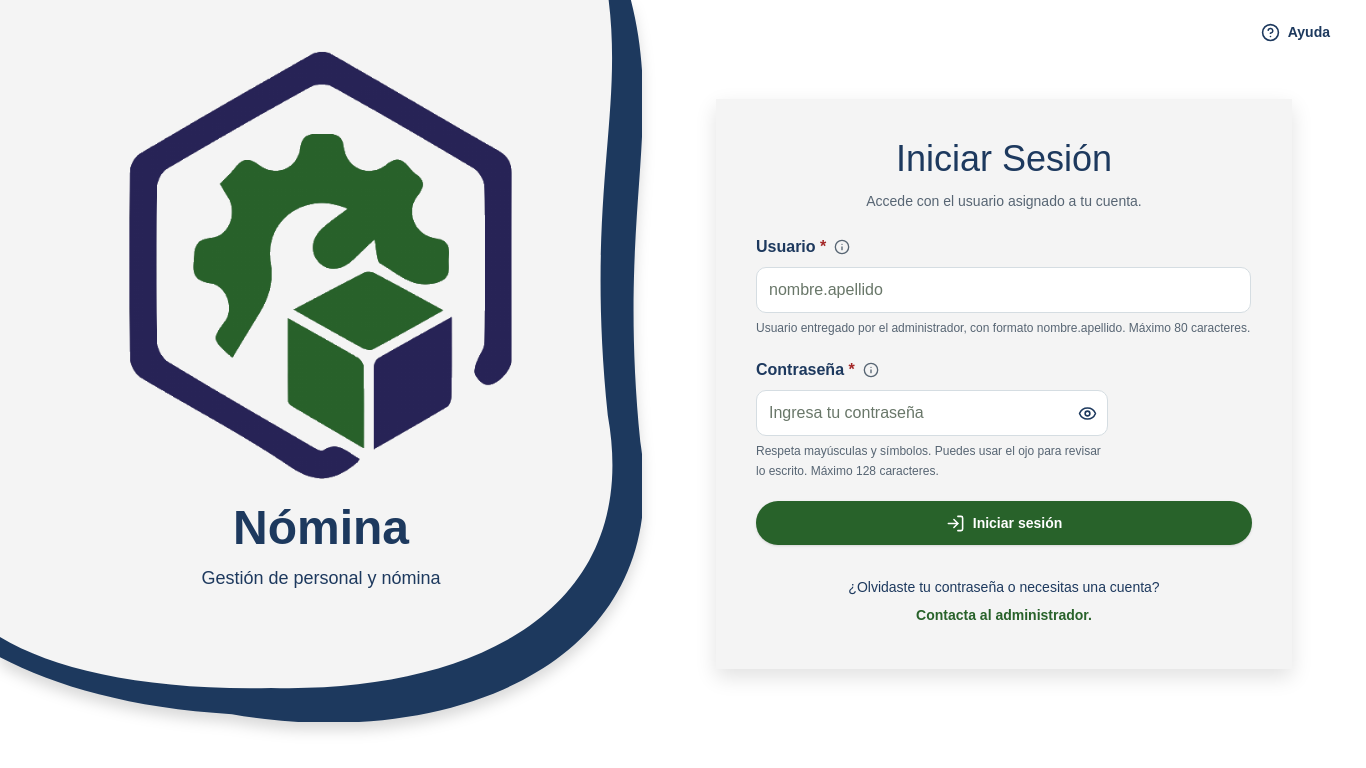
autenticación y guards › muestra errores de credenciales sin navegar ni repetir el envío
expect the heading "Iniciar Sesión" is shown: met, box [896,138,1112,179]
Type "ana.perez" into the field labelled "Usuario *". click: coordinates (1003, 290)
box: [757,268,1250,312]
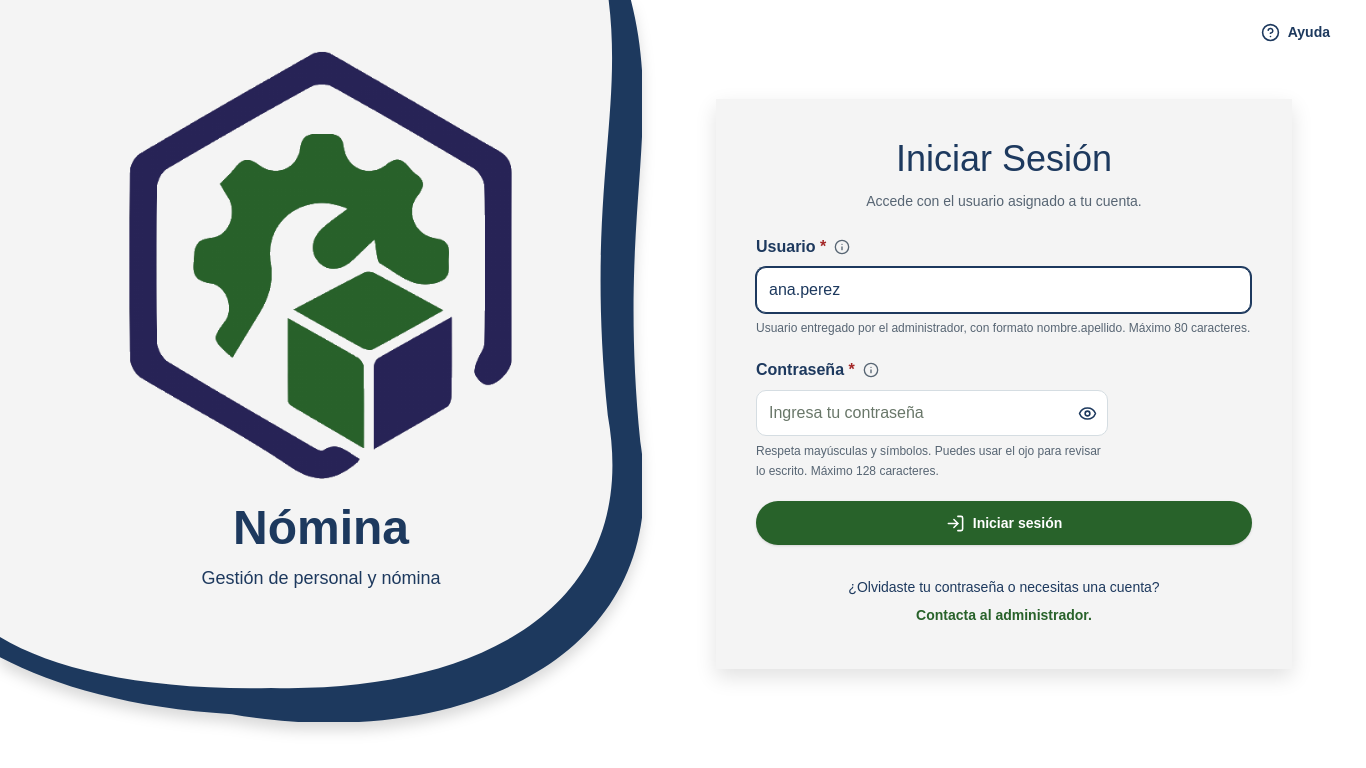
Type "Temporal!123" into the password field labelled "Contraseña *". click: coordinates (912, 413)
box: [757,391,1067,435]
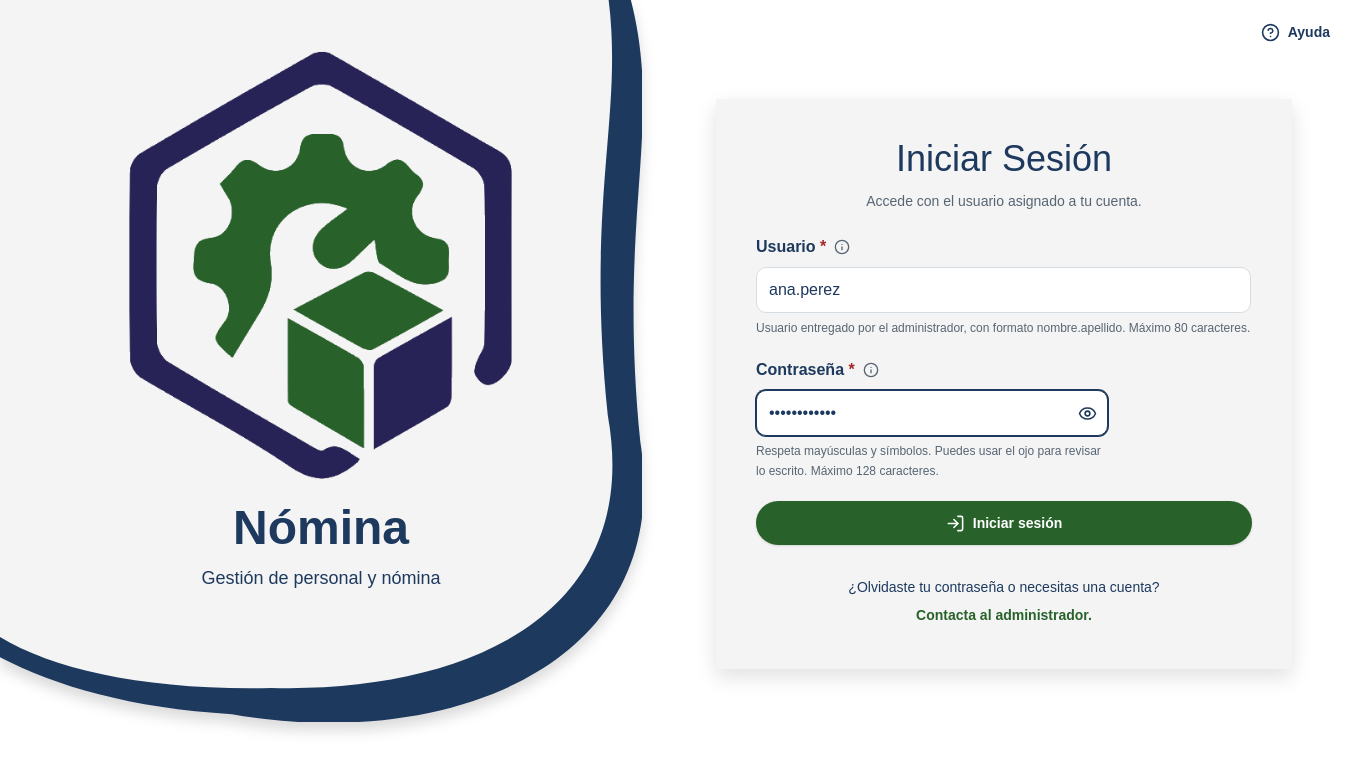
Click the button "Iniciar sesión". click: coordinates (1004, 523)
box: [756,501,1252,545]
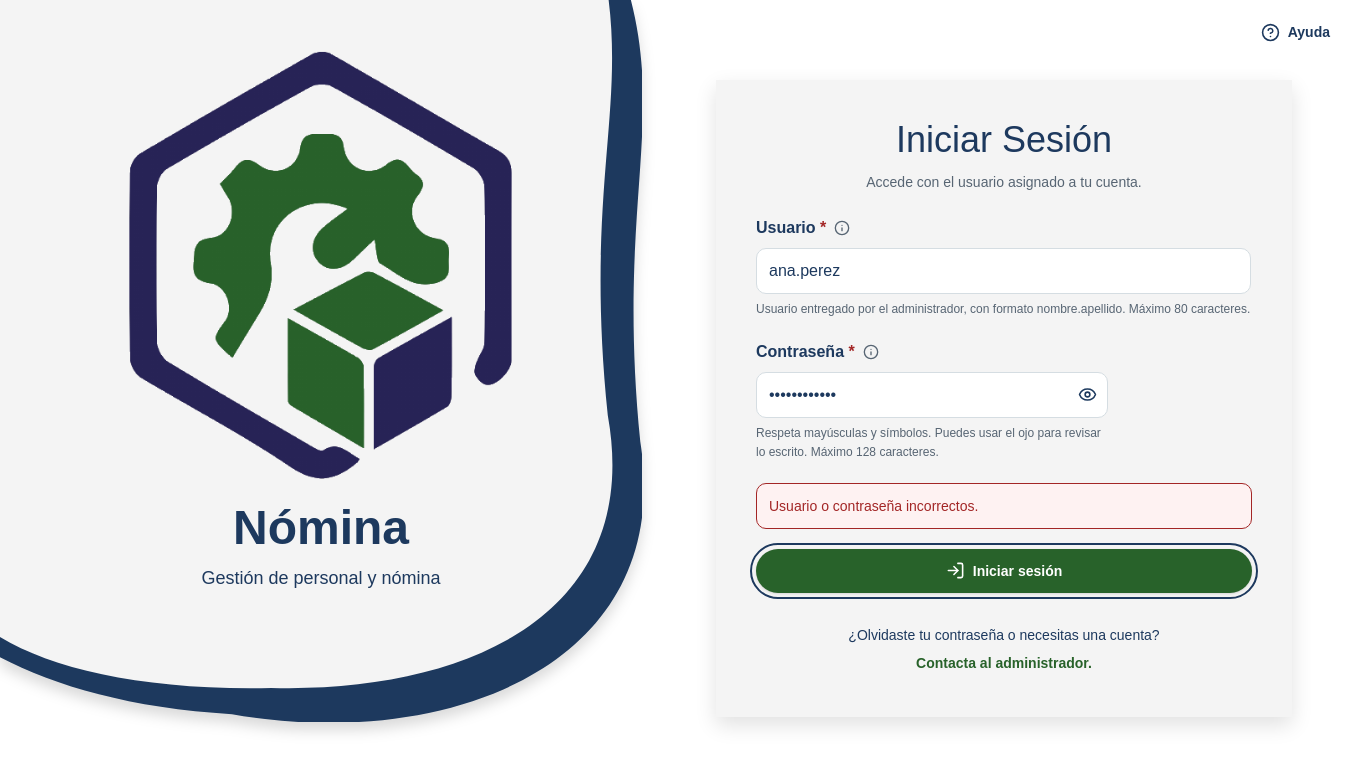
expect the message reads "Usuario o contraseña incorrectos.": met, box [769,498,978,514]
